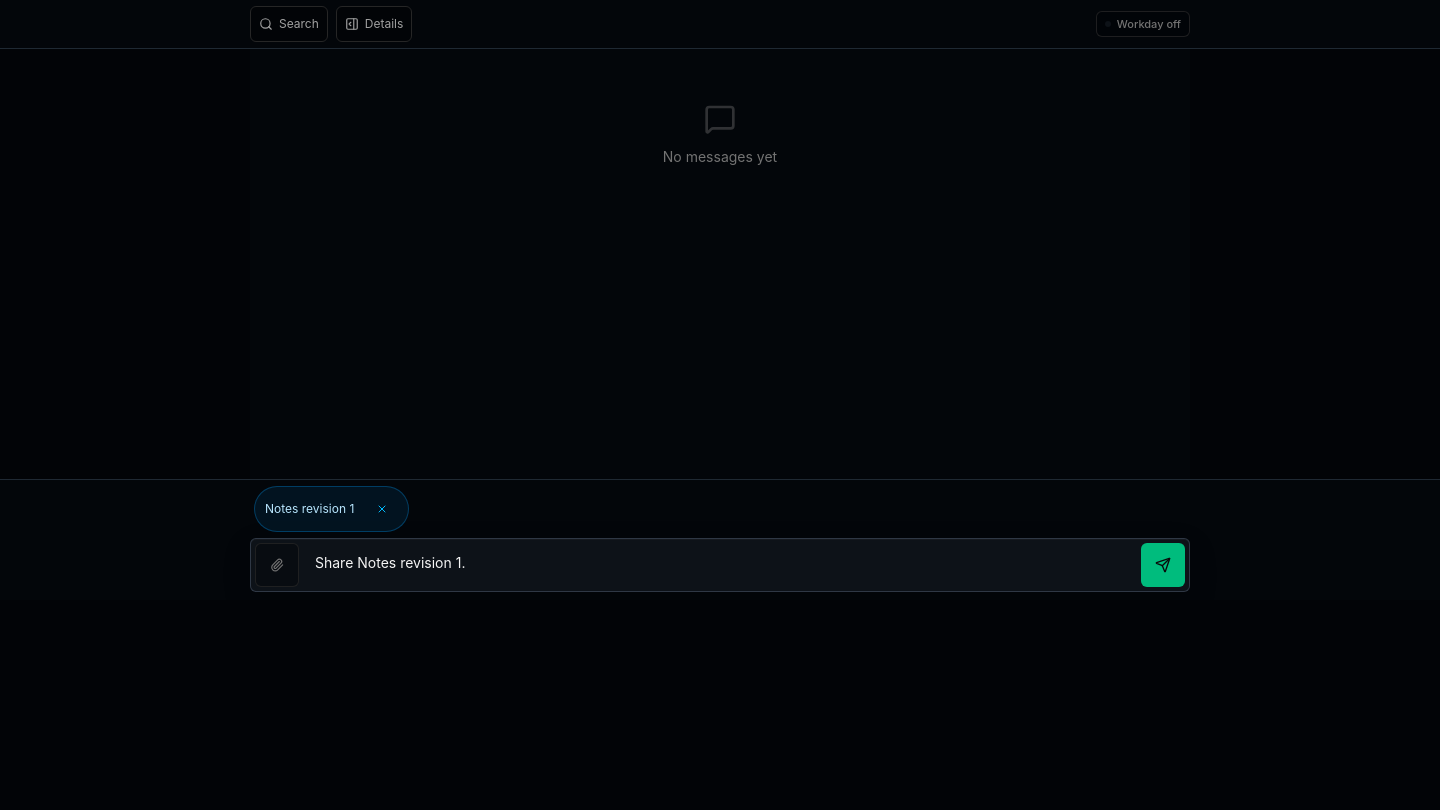
Test: MessagesPanel chrome modes › drains only one queued handoff and immediately shows the next after chip removal
The image size is (1440, 810).
Click the button named "Remove Notes revision 1" at (382, 509), box [360,487,404,531]
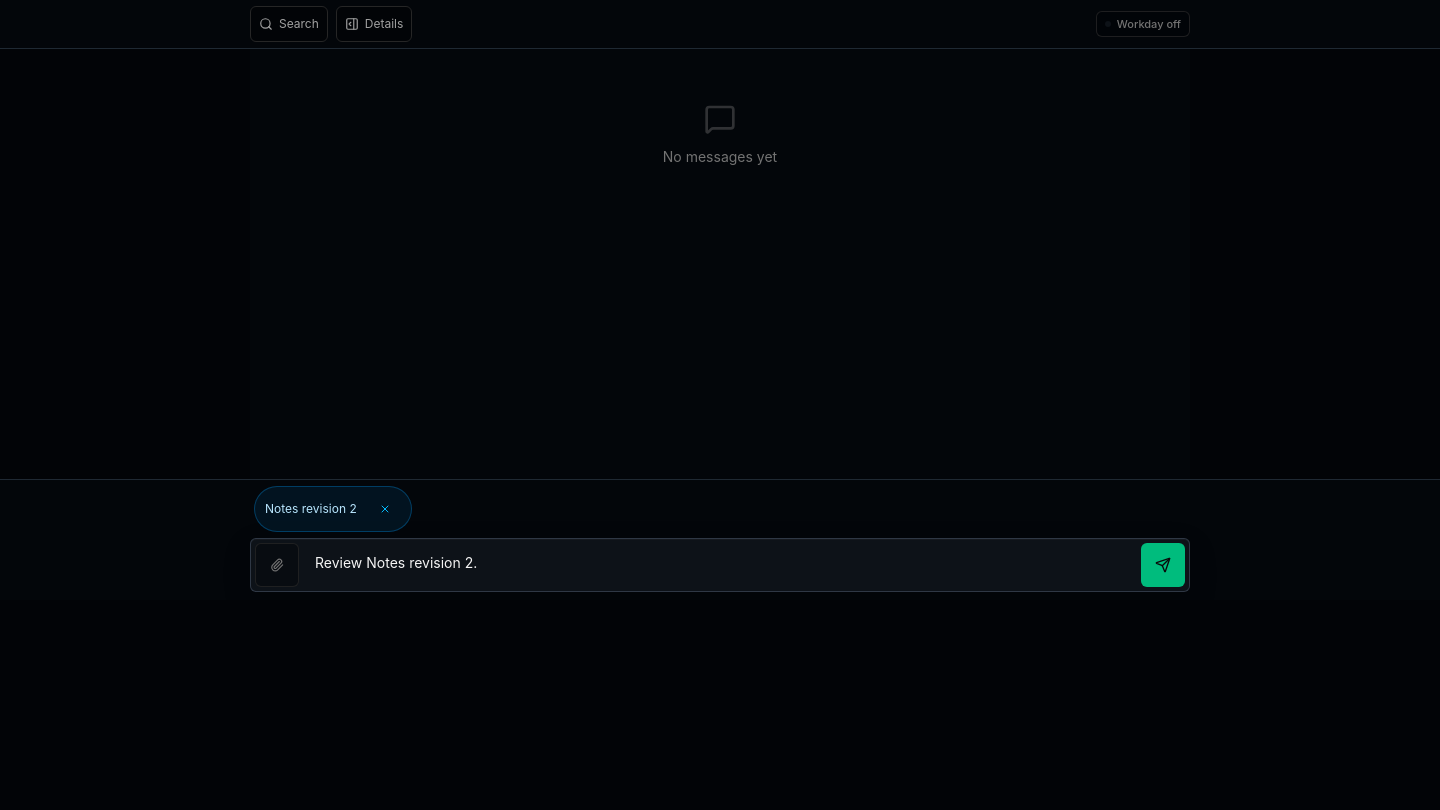
Expected: the text box holds "Review Notes revision 2.", [303,546,1137,581]
